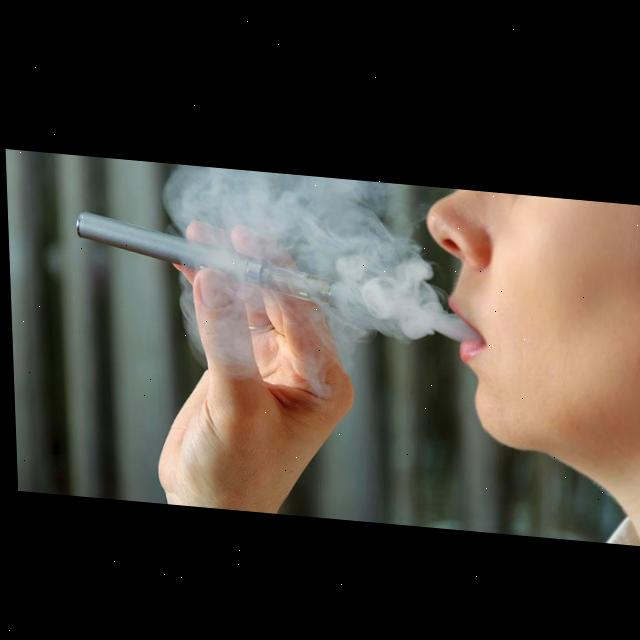vape: (75, 208, 341, 304)
